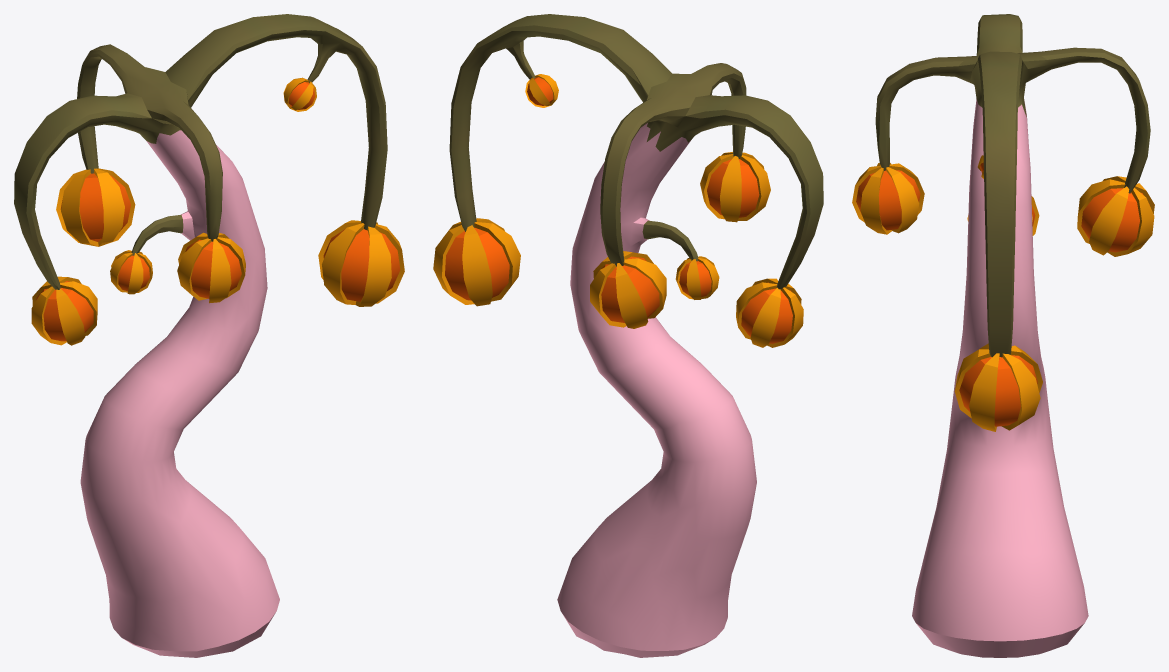
File: Arvore 3.fbx
3 renders of one model, left to right at view 1: azimuth 30°, elevation 25°; view 2: azimuth 150°, elevation 25°; view 3: azimuth 270°, elevation 25°, orthographic. The views are drawn at different scales.
Parts seen in each view (by area): view 1: Circle.008, Sphere.006; view 2: Circle.008, Sphere.006; view 3: Circle.008, Sphere.006.
Boxes of the visible parts, <box> form: Circle.008: <box>14,14,387,657</box>; Sphere.006: <box>31,77,404,345</box>; Circle.008: <box>449,14,823,657</box>; Sphere.006: <box>433,74,803,347</box>; Circle.008: <box>875,14,1150,657</box>; Sphere.006: <box>852,155,1154,431</box>.
Size of the model in its own units: 540 by 808 by 365.
Materials: 2 (2 with a texture image).
